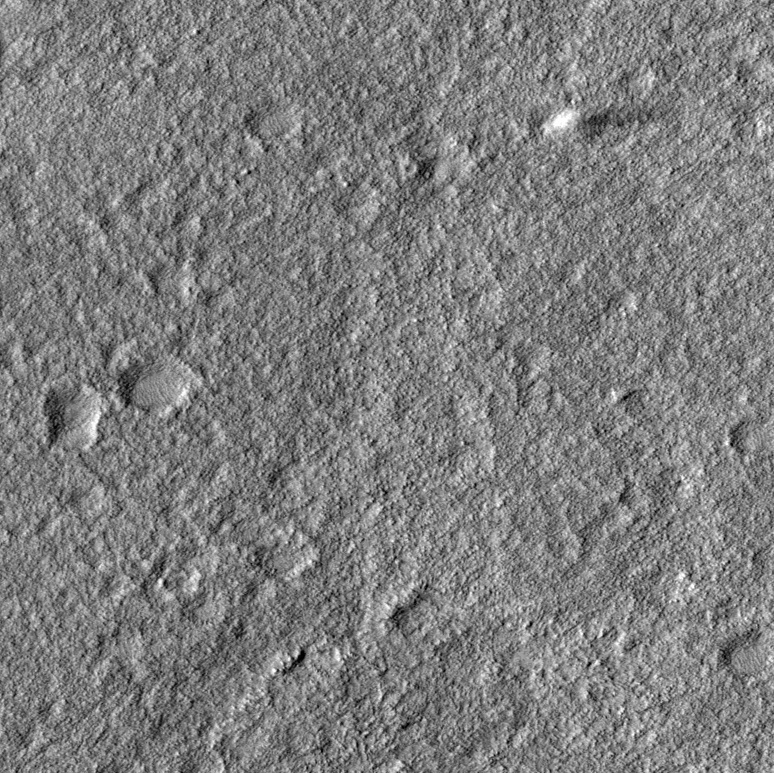dust_devil: (542, 100, 668, 143)
